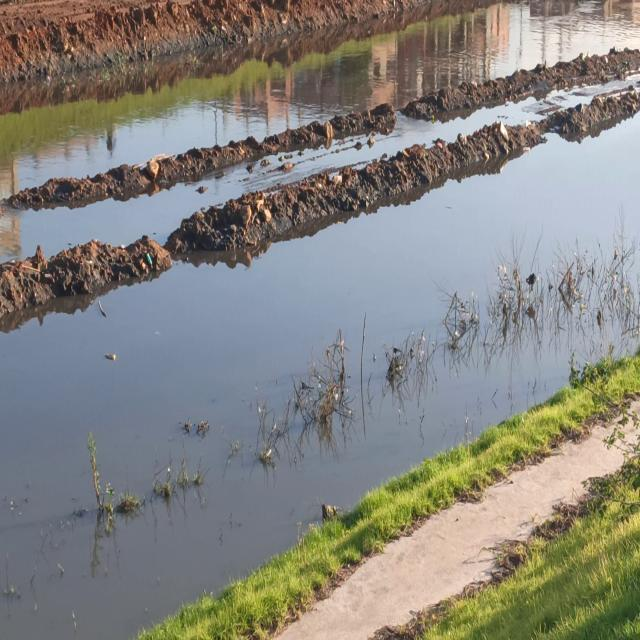Plastic bottle: (105, 352, 116, 361)
Wood: (97, 298, 107, 318)
